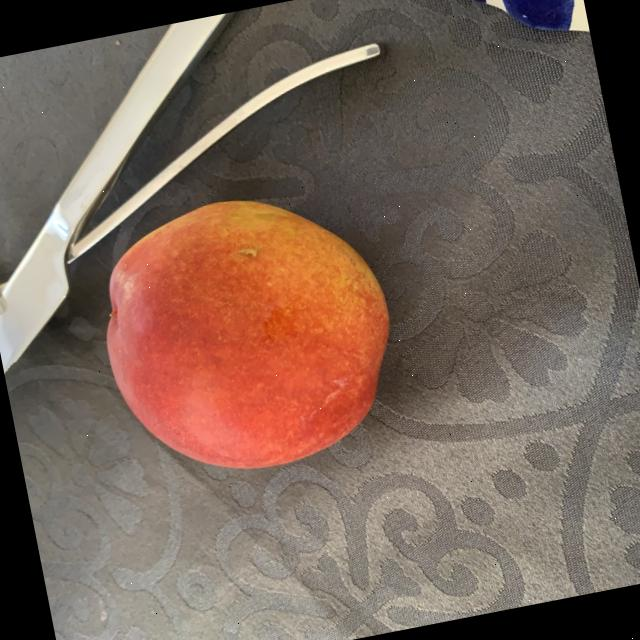peach: (107, 201, 392, 469)
